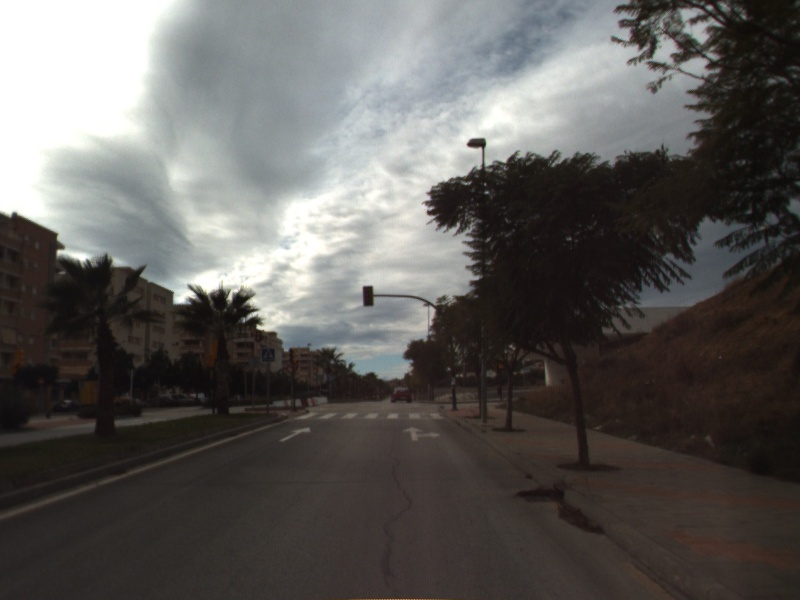STRAIGHT: (277, 425, 313, 444)
STRAIGHT_RIGHT: (401, 424, 442, 443)
